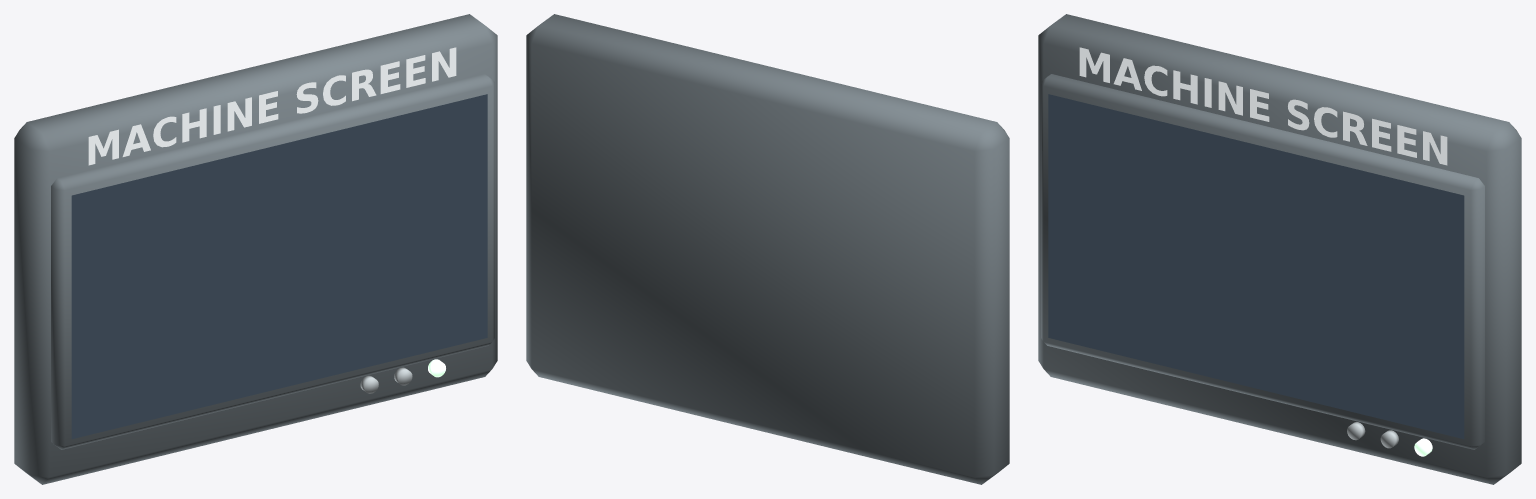
Rendered from machine_screen_standard.glb.
3 views of the same model, side by side, from view 1: azimuth 30°, elevation 25°; view 2: azimuth 150°, elevation 25°; view 3: azimuth 330°, elevation 25° (orthographic).
Visible parts, largest first — view 1: LiveViewSurface_glass, DisplayHousing_frame, LiveViewSurfaceFrame_frame, TypeLabel_white, Controls_steel; view 2: DisplayHousing_frame; view 3: LiveViewSurface_glass, DisplayHousing_frame, LiveViewSurfaceFrame_frame, TypeLabel_white, Controls_steel.
Boxes of the visible parts, x1,y1,x2,y2 form: LiveViewSurface_glass: [71, 94, 487, 439]; DisplayHousing_frame: [14, 14, 497, 484]; LiveViewSurfaceFrame_frame: [51, 74, 494, 449]; TypeLabel_white: [88, 47, 456, 165]; Controls_steel: [360, 367, 412, 393]; DisplayHousing_frame: [526, 14, 1009, 484]; LiveViewSurface_glass: [1048, 94, 1464, 439]; DisplayHousing_frame: [1038, 14, 1521, 484]; LiveViewSurfaceFrame_frame: [1041, 74, 1484, 449]; TypeLabel_white: [1079, 47, 1447, 165]; Controls_steel: [1347, 422, 1398, 448].
Size of the model in its own units: 1.18 by 0.848 by 0.168.
